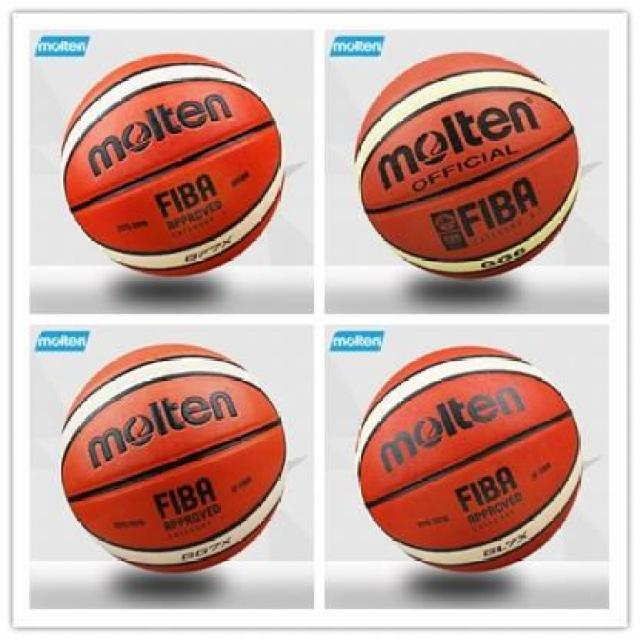basketball: (355, 346, 583, 572), (62, 343, 286, 572), (58, 50, 284, 274), (356, 53, 578, 279)
